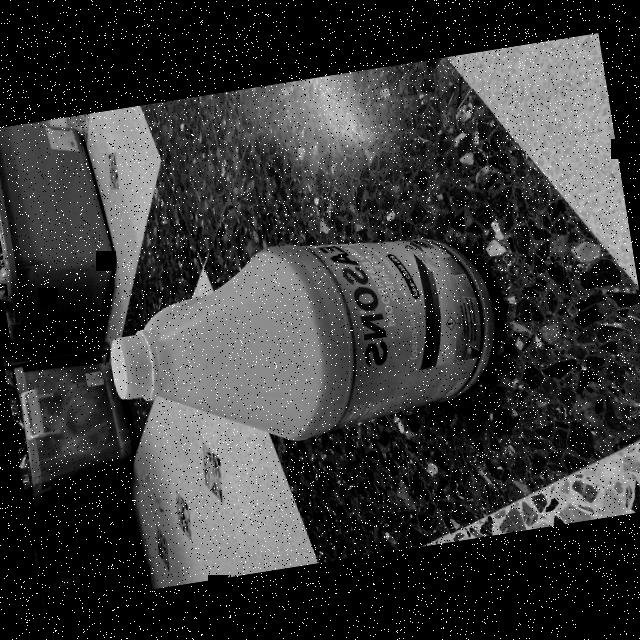chemical_plastic_gallon: (92, 214, 510, 472)
